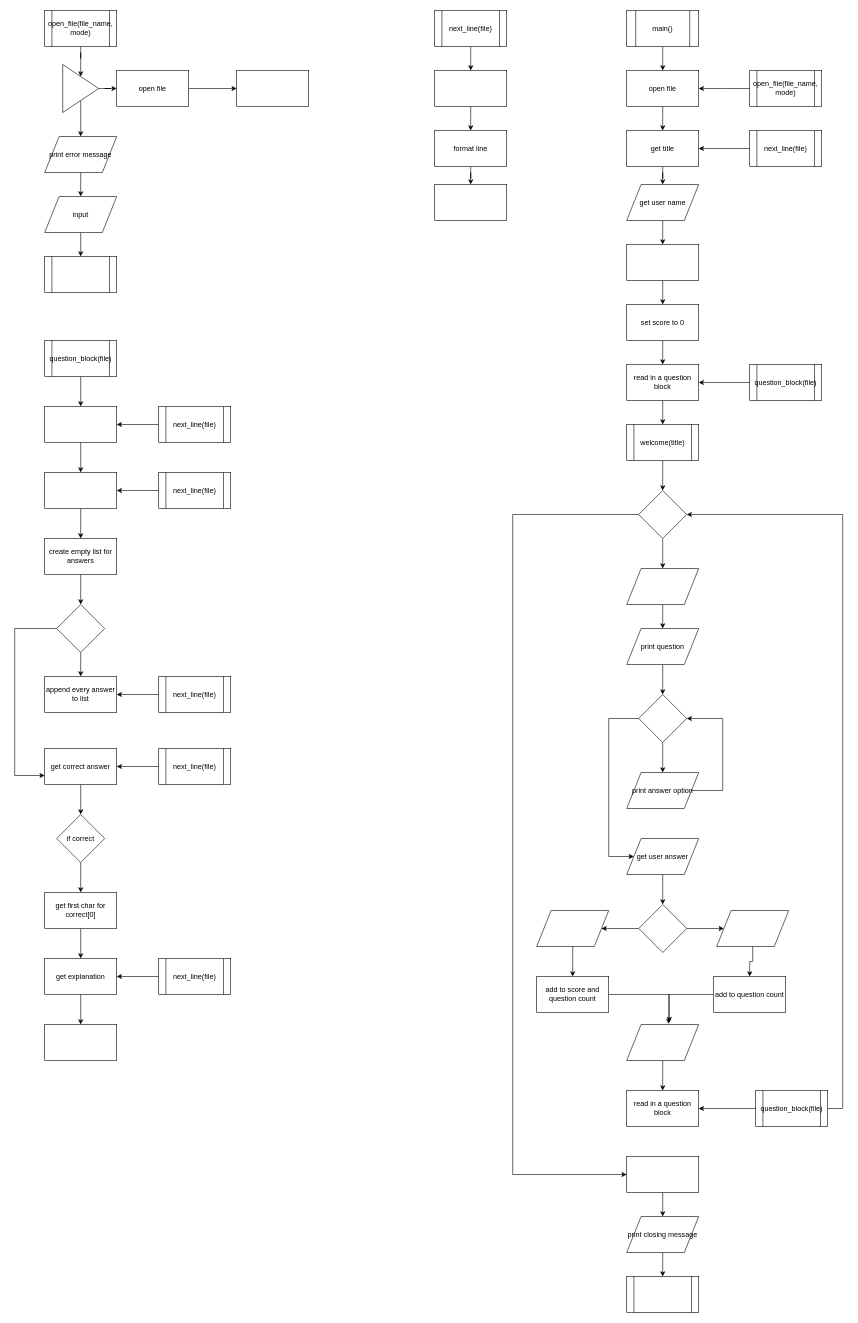
The diagram is 858 pixels wide and 1323 high, and some of its shapes have lost their labels. The shapes that lost their labels are listed below. From the top down, each one's centre as x and y in pixels, then its label:
At [80,88]: "try".
At [272,88]: "return file".
At [470,88]: "read line from file".
At [470,202]: "return line".
At [80,274]: "sys.exit()".
At [662,262]: "create question count and set to 0".
At [80,424]: "get the category".
At [80,490]: "get the question".
At [662,514]: "while category".
At [662,586]: "print category".
At [80,628]: "for i in range(4)".
At [662,718]: "for i in range(len(answers))".
At [572,928]: "print correct".
At [662,928]: "if answer == correct".
At [752,928]: "print incorrect".
At [80,1042]: "return category, question, answers correct, explanation".
At [662,1042]: "print explanation".
At [662,1174]: "close file".
